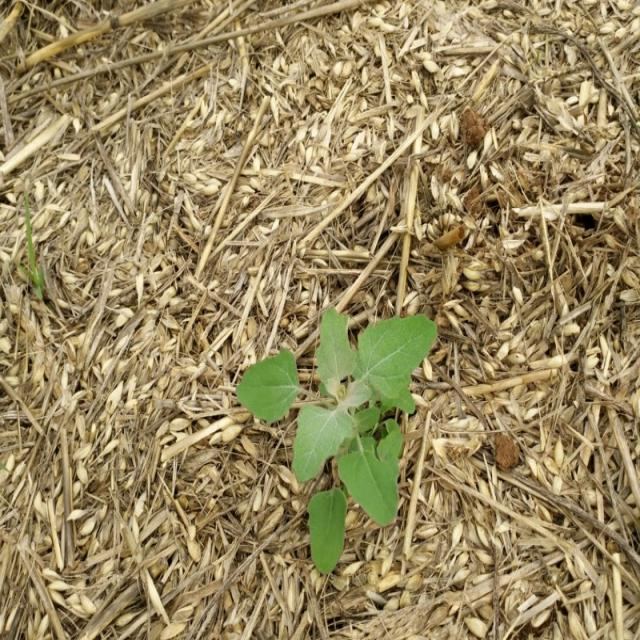goosefoots: (230, 302, 460, 552)
